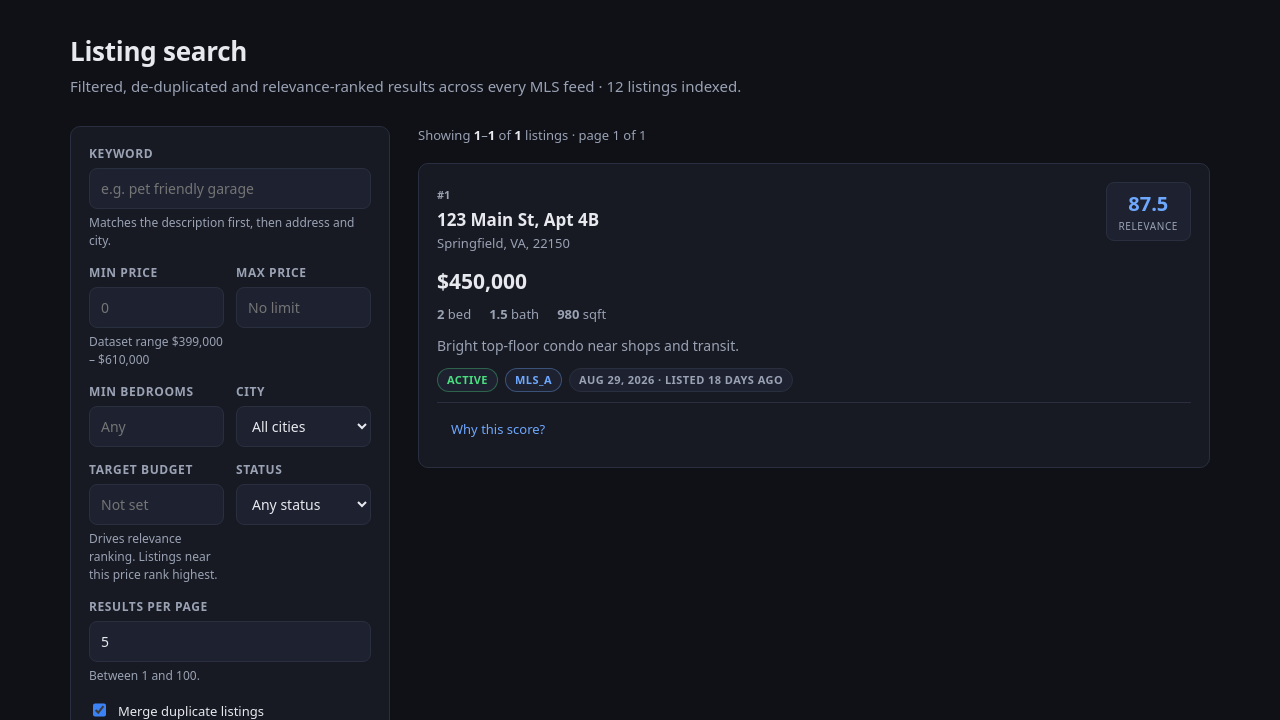
Test: App — invalid input › rejects a page size of zero before it reaches the API
The image size is (1280, 720).
Expected: the element that starts with "123 Main St, Apt 4B" is shown, [418,163,1210,468]
Replace the text in the number field labelled "Results per page" with "0" at (230, 641), box [89,620,371,662]
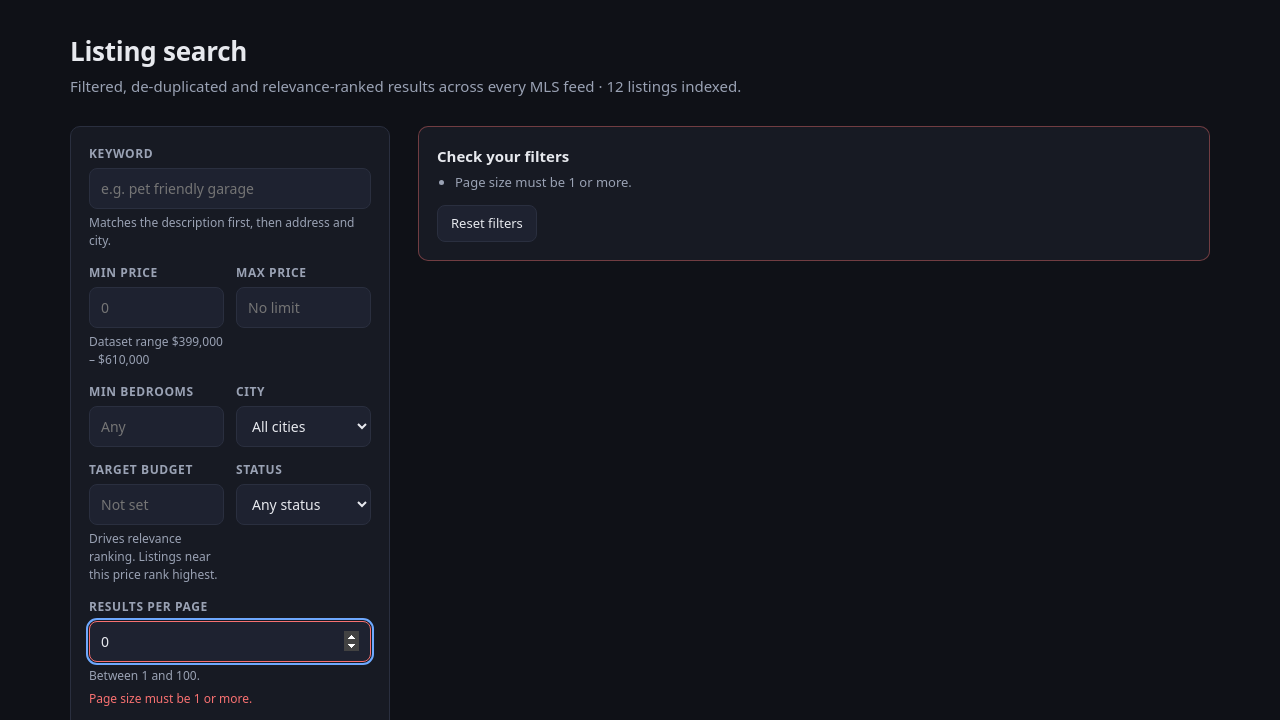
Expected: the heading "Check your filters" is shown, [437,146,569,166]
